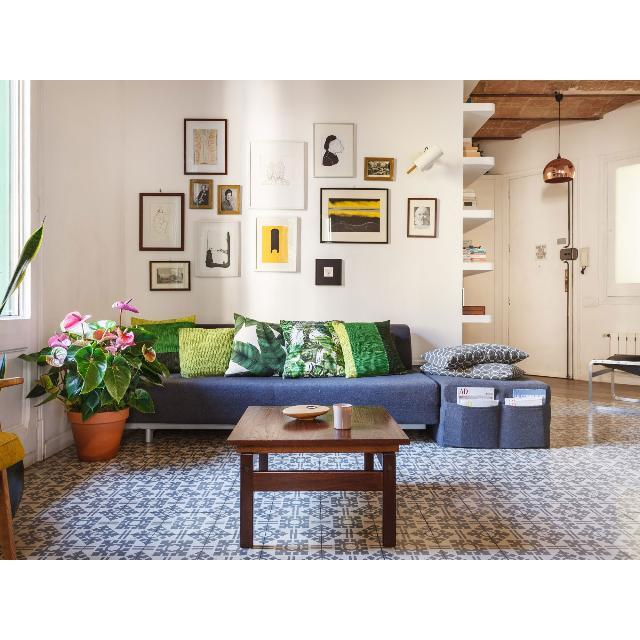pillow: (331, 319, 409, 378), (277, 318, 342, 377), (130, 312, 192, 373), (225, 311, 283, 376), (176, 328, 240, 372)
table: (227, 401, 409, 547)
